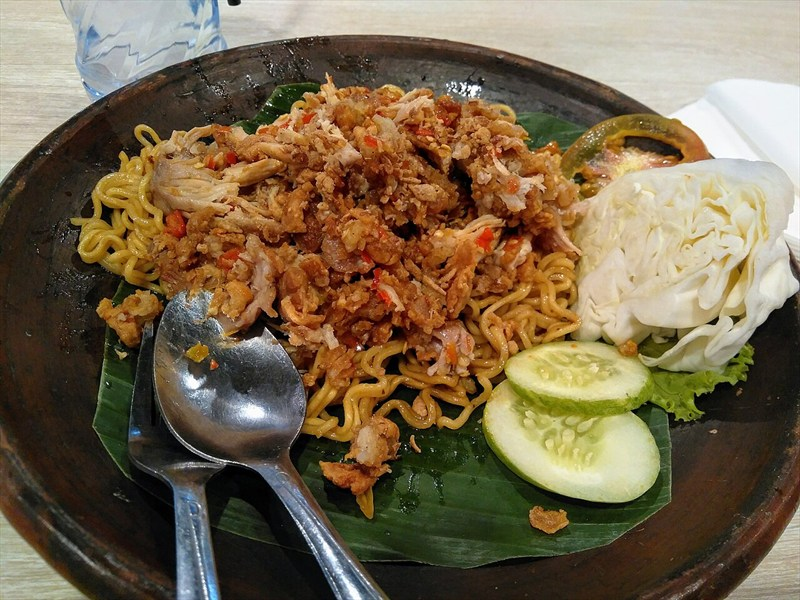Mie Goreng: (97, 104, 653, 486)
